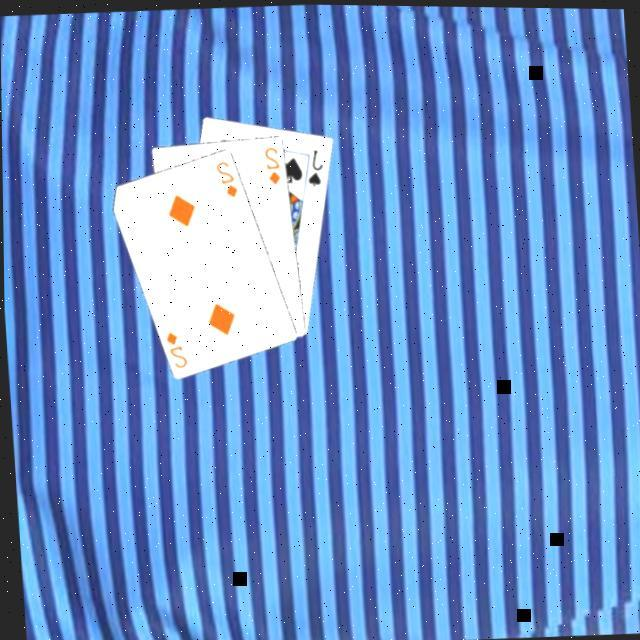2D: (162, 330, 191, 372), (214, 159, 242, 202), (262, 145, 285, 188)
JS: (304, 147, 328, 190)
